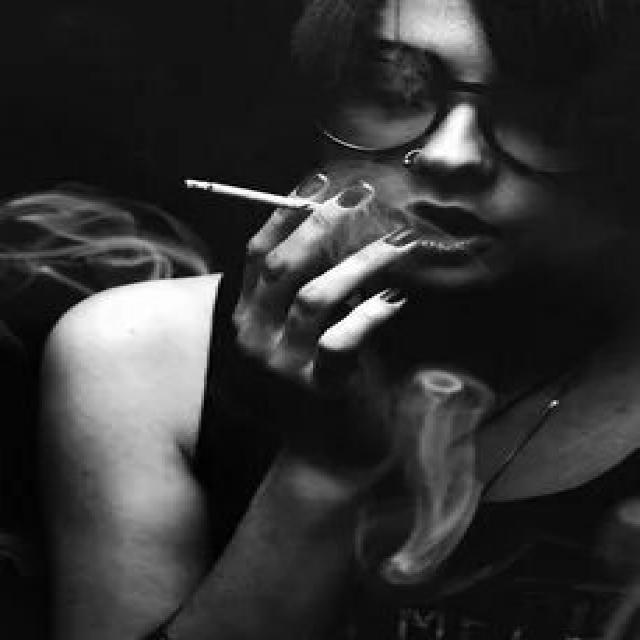smoke: (170, 172, 347, 224)
